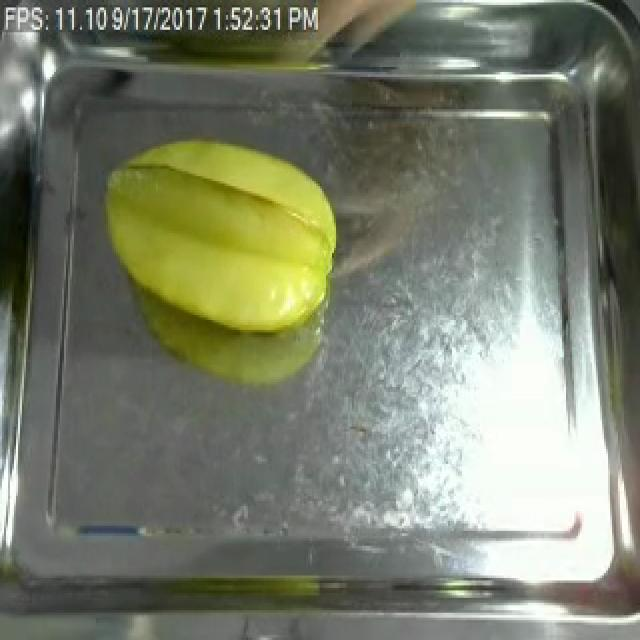fruit: (88, 126, 350, 342), (274, 0, 436, 62)
